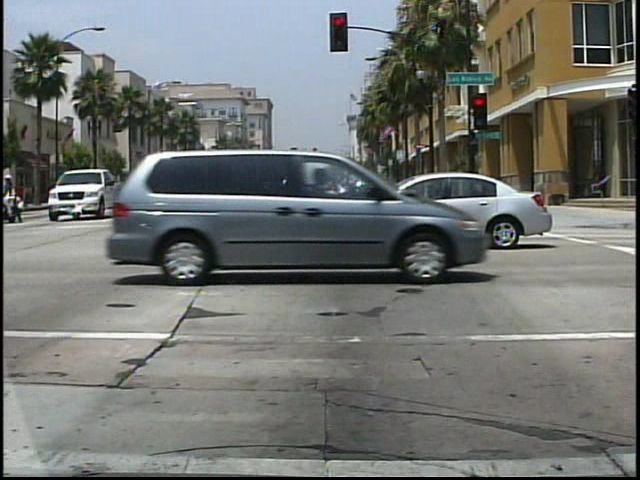person: (3, 170, 31, 227)
